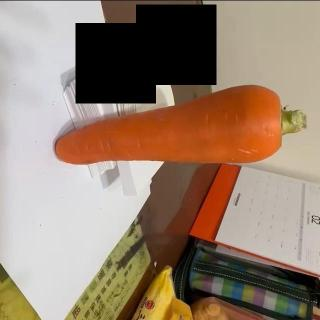carrot: (54, 82, 308, 171)
